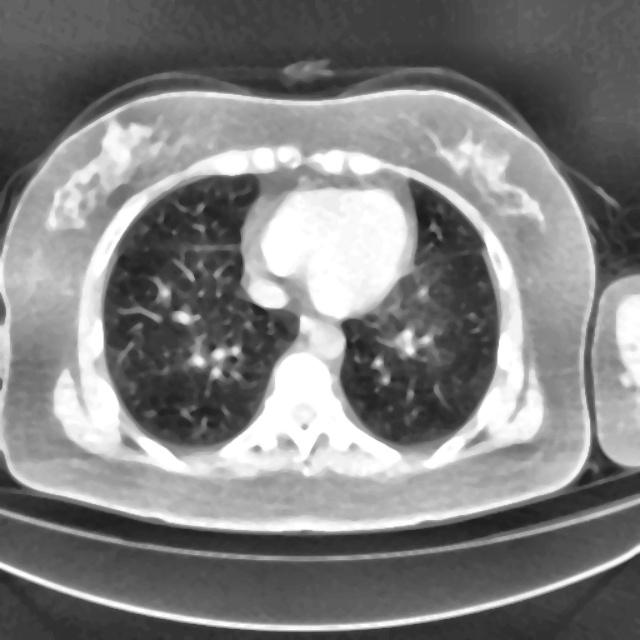covid: (1, 66, 613, 535)
